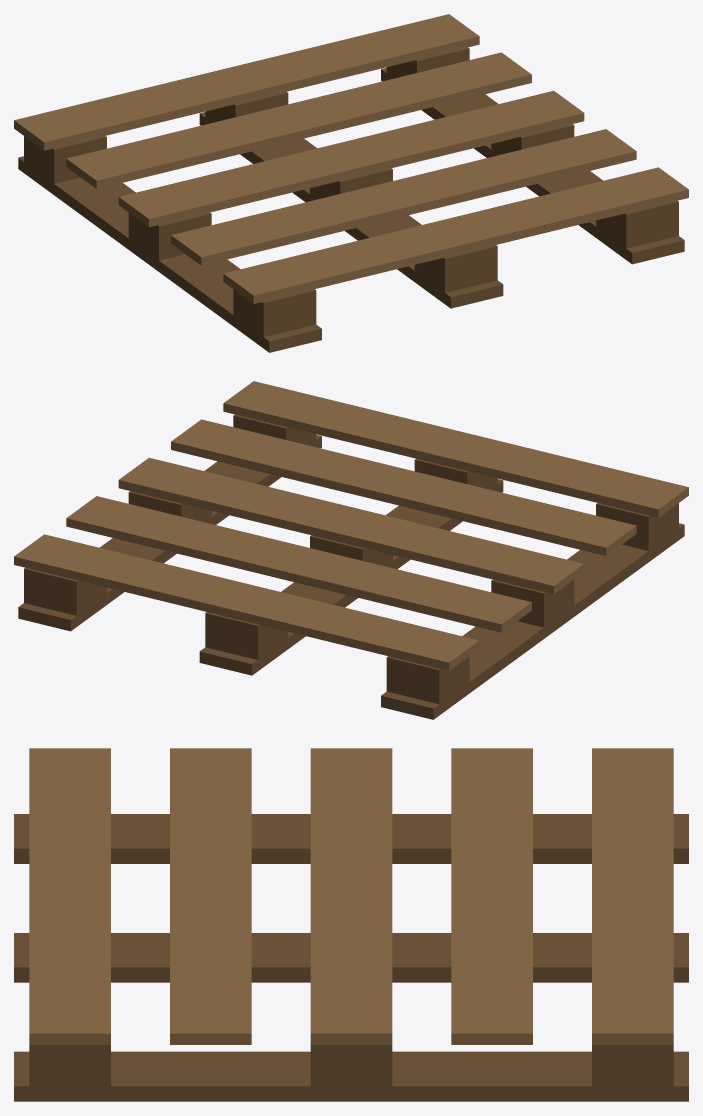
File: wood_pallet.glb
The picture shows the model from 3 angles, top to bottom: view 1: azimuth 30°, elevation 25°; view 2: azimuth 150°, elevation 25°; view 3: azimuth 270°, elevation 25°; orthographic projection. The views are drawn at different scales.
Visible parts, largest first — view 1: WoodPallet; view 2: WoodPallet; view 3: WoodPallet.
Part boxes in pixels (x1,y1,x2,y2): WoodPallet: (14, 14, 688, 352); WoodPallet: (14, 381, 688, 719); WoodPallet: (14, 748, 688, 1101).
Bounding box in the file's own units: 1.2 × 0.146 × 1.2.
